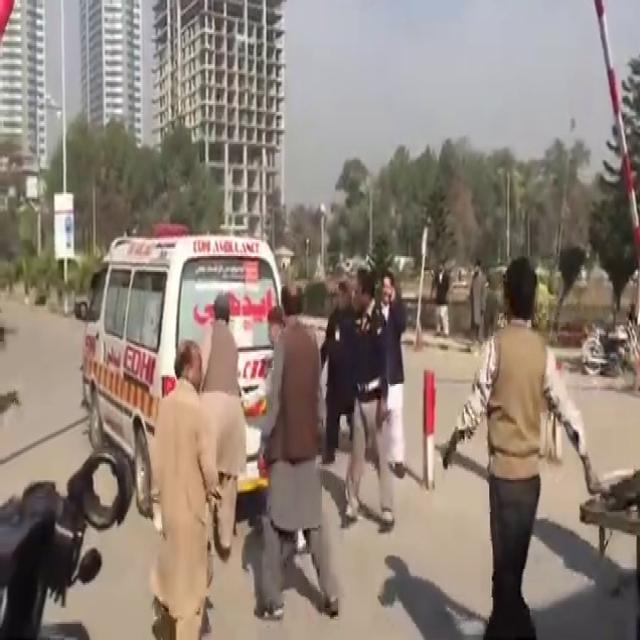ambulance: (84, 218, 292, 451)
